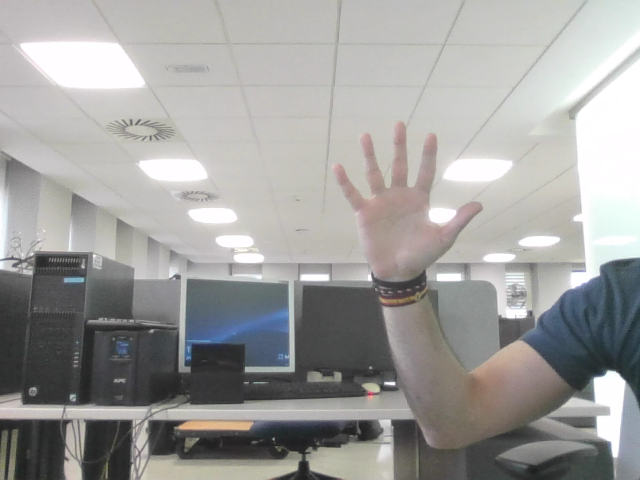Mano Abierta: (343, 135, 468, 252)
